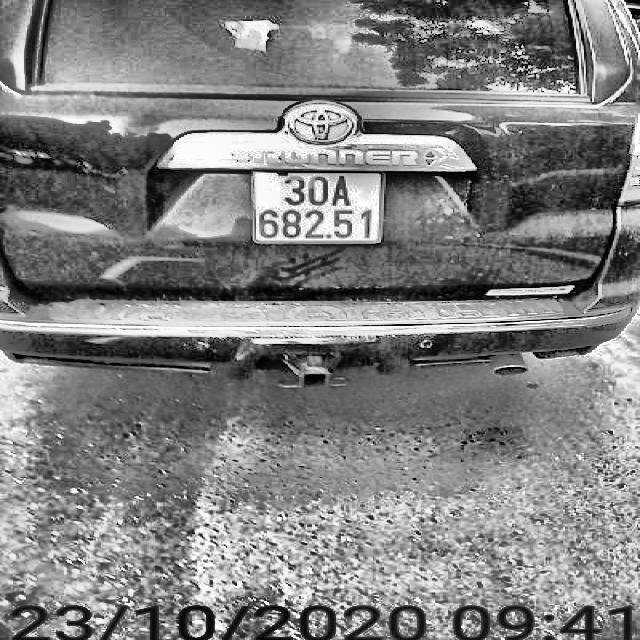plate: (239, 165, 394, 248)
